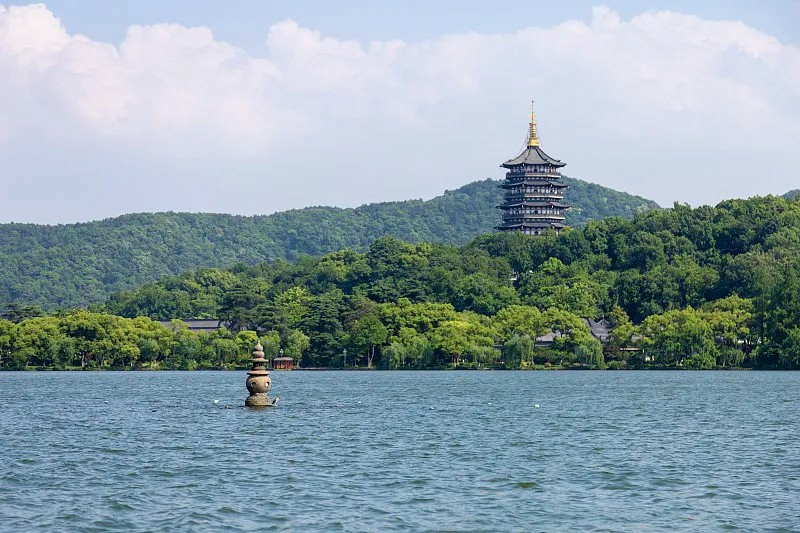Leifeng: (493, 98, 573, 242)
